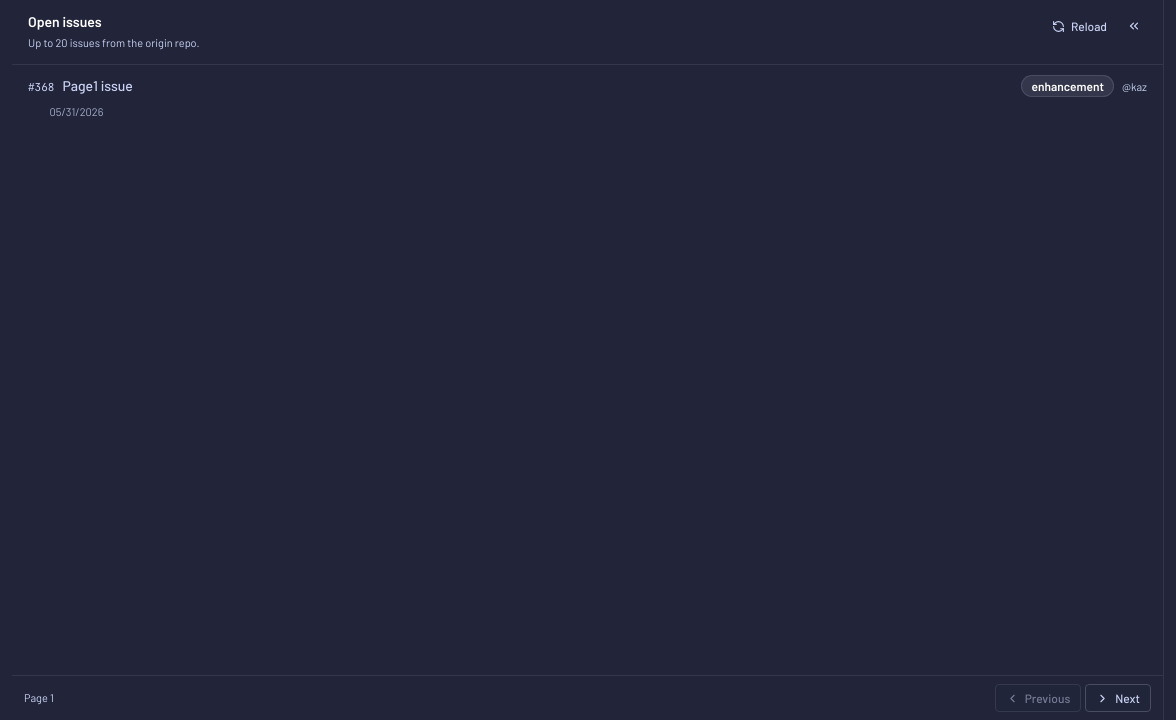
Test case: IssueTab › uses next and previous pagination with cached pages
The width and height of the screenshot is (1176, 720).
Expected: the text "Page1 issue" is shown, [62,77,133,94]
What coordinates should you click on to do the following:
click the button "Next"
I would click on:
 (1118, 698)
Its box is [1085,684,1151,712].
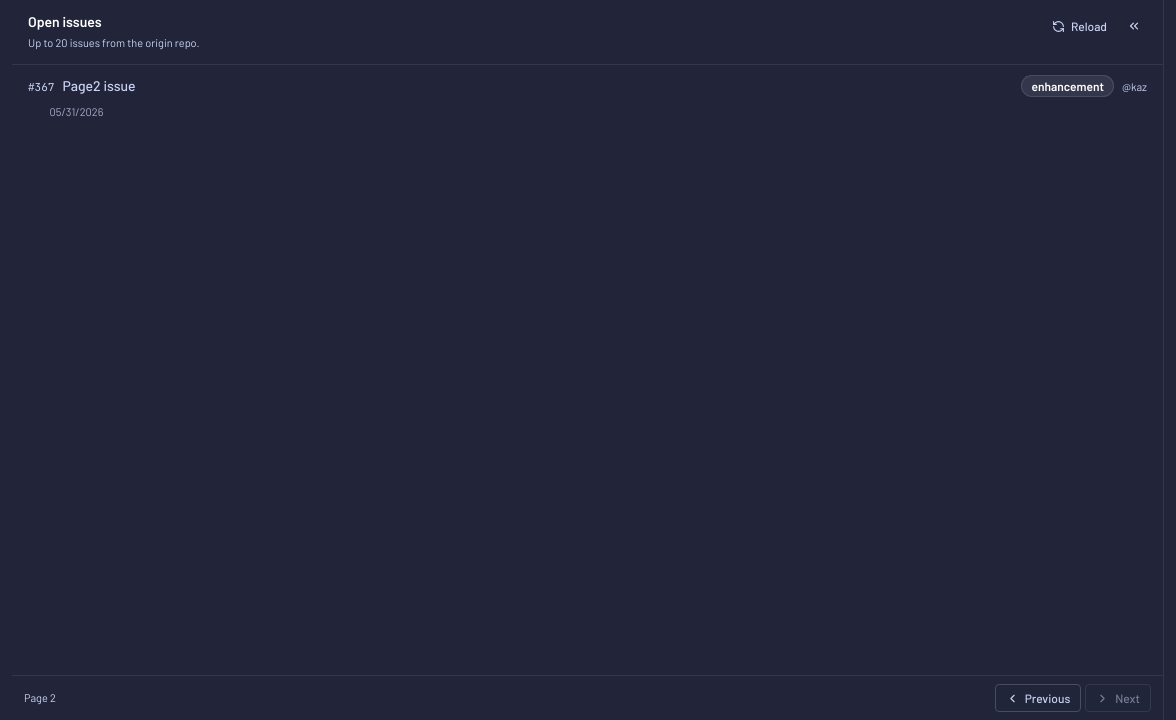
Now the text "Page2 issue" is shown, box [62,77,136,94]
Now the button "Next" is disabled, box [1085,684,1151,712]
What coordinates should you click on to do the following:
click the button "Previous"
I would click on:
 (1038, 698)
Its box is [995,684,1081,712].
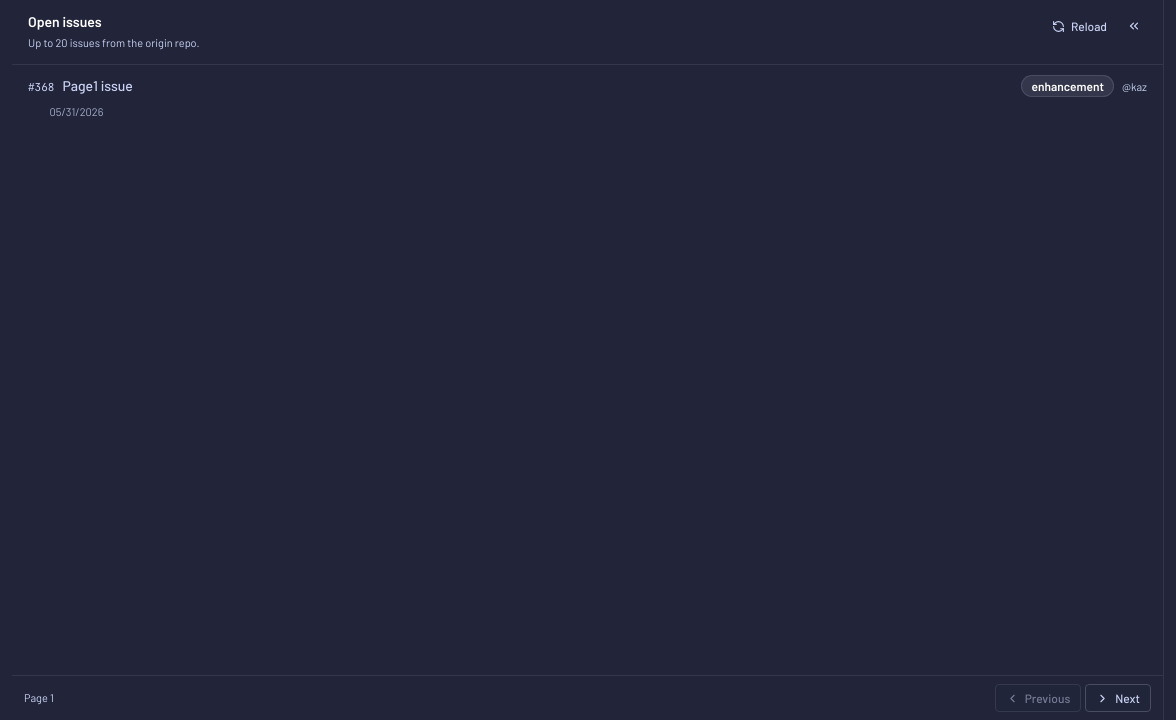
Now the text "Page1 issue" is shown, box [62,77,133,94]
